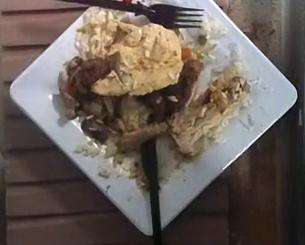chicken: (76, 7, 183, 95)
unknown: (59, 57, 160, 157)
